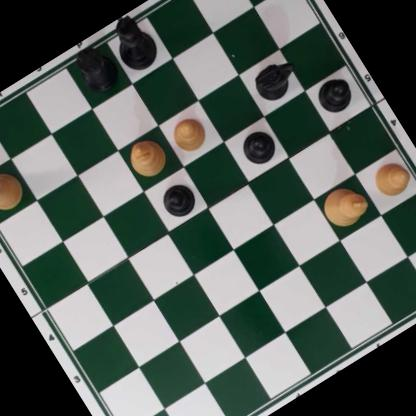black-king: (103, 11, 164, 78)
black-knight: (247, 53, 305, 107)
black-pawn: (156, 177, 203, 225), (310, 71, 357, 118), (234, 123, 280, 171)
black-rook: (65, 38, 124, 100)
white-bishop: (120, 131, 172, 185)
white-king: (315, 178, 371, 233)
white-pawn: (366, 153, 415, 203), (164, 110, 212, 158)
white-rook: (0, 162, 28, 221)
